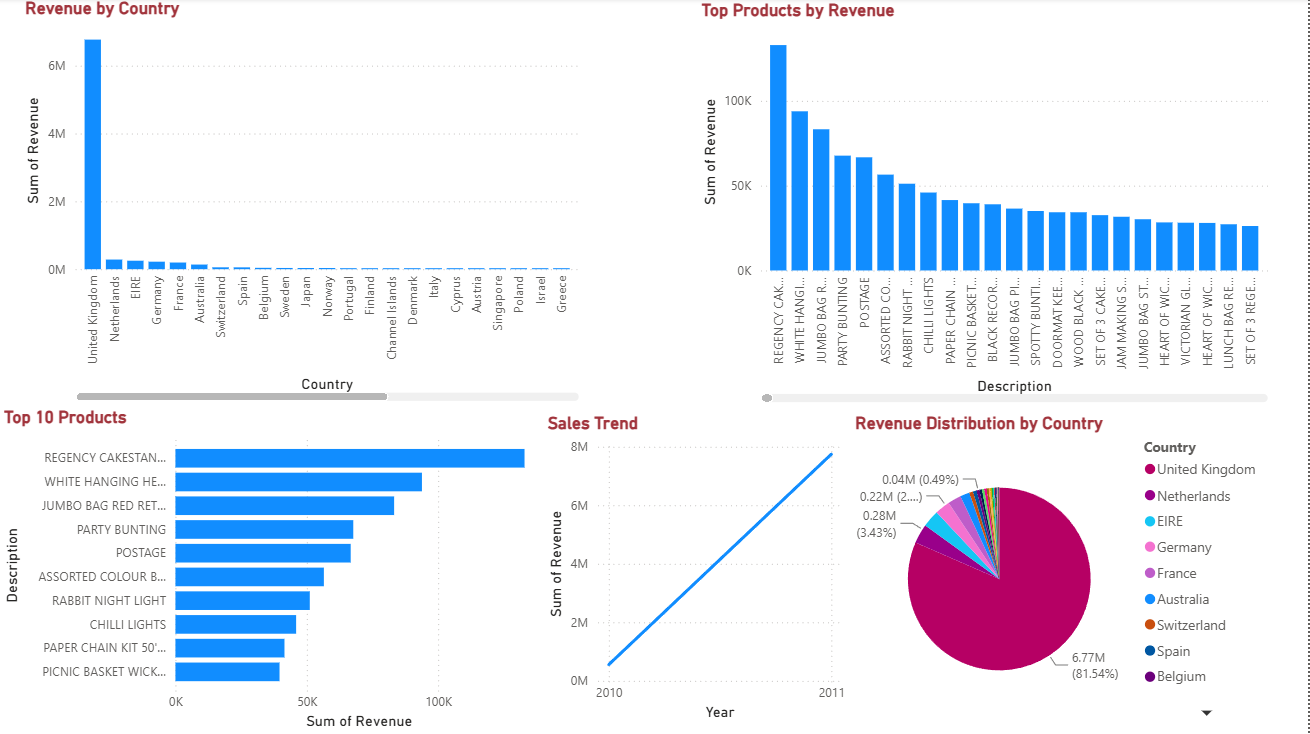

The page's visual inventory and layout, read from the dashboard file:
{"tool":"powerbi","page":{"name":"Page 1","canvas":[1280,720],"ordinal":0},"visuals":[{"type":"columnChart","title":"Revenue by Country","fields":{"Category":["Online Retail.Country"],"Y":["Sum(Online Retail.Revenue)"]},"box":[20.6,0,551.6,399.3],"z":0},{"type":"columnChart","title":"Top Products by Revenue","fields":{"Category":["Online Retail.Description"],"Y":["Sum(Online Retail.Revenue)"]},"box":[682,1.4,564,399.3],"z":1},{"type":"clusteredBarChart","title":"Top 10 Products","fields":{"Category":["Online Retail.Description"],"Y":["Sum(Online Retail.Revenue)"]},"box":[0,399.3,551.6,321.1],"z":2},{"type":"lineChart","title":"Sales Trend","fields":{"Category":["Online Retail.InvoiceDate.Variation.Date Hierarchy.Year","Online Retail.InvoiceDate.Variation.Date Hierarchy.Quarter","Online Retail.InvoiceDate.Variation.Date Hierarchy.Month","Online Retail.InvoiceDate.Variation.Date Hierarchy.Day"],"Y":["Sum(Online Retail.Revenue)"]},"box":[532.4,406.2,300.5,306],"z":3},{"type":"pieChart","title":"Revenue Distribution by Country","fields":{"Category":["Online Retail.Country"],"Y":["Sum(Online Retail.Revenue)"]},"box":[833,406,413,306],"z":4}]}

Visuals, with their boxes in screenshot pixels (x1, y1, x2, y2), scaled from the page's 1280x720 canvas onto the 1310x734 screenshot:
"Revenue by Country" columnChart: box=[21, 0, 586, 407]
"Top Products by Revenue" columnChart: box=[698, 1, 1275, 408]
"Top 10 Products" clusteredBarChart: box=[0, 407, 565, 733]
"Sales Trend" lineChart: box=[545, 414, 852, 726]
"Revenue Distribution by Country" pieChart: box=[853, 414, 1275, 726]
